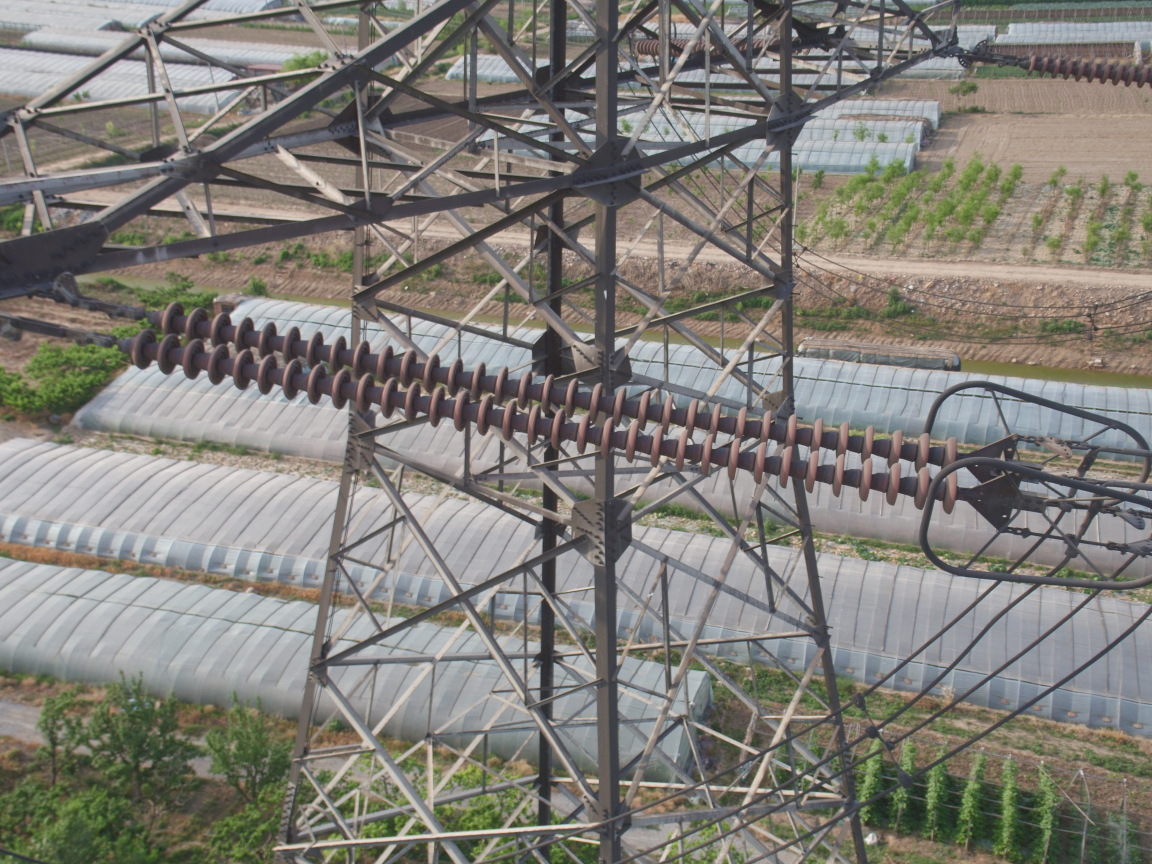insulator: (87, 298, 988, 518)
